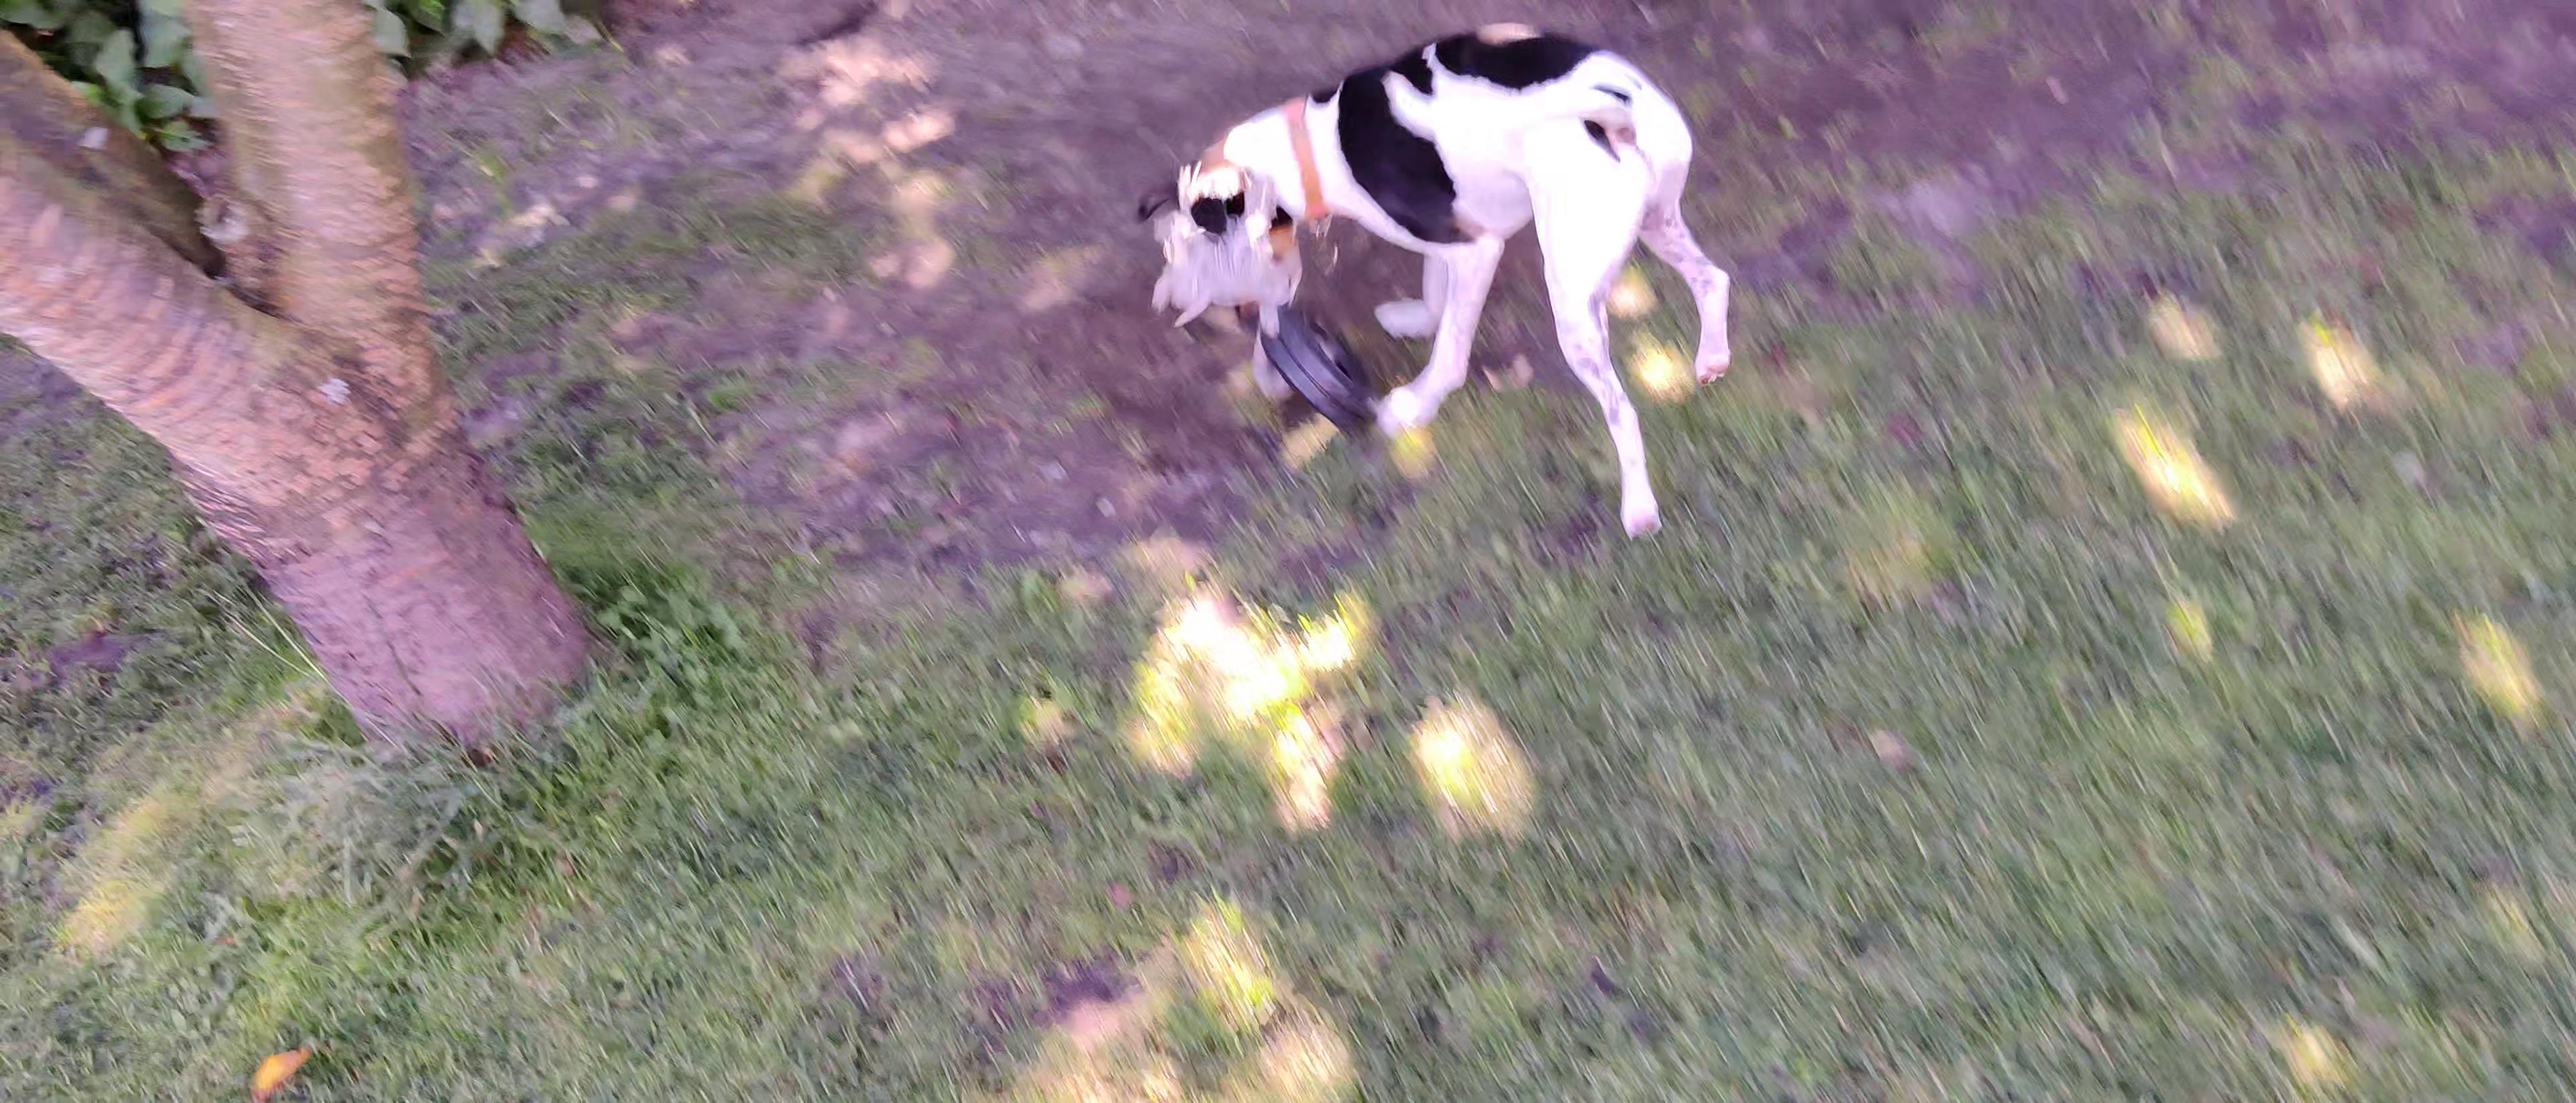Dog: (1129, 15, 1740, 547)
